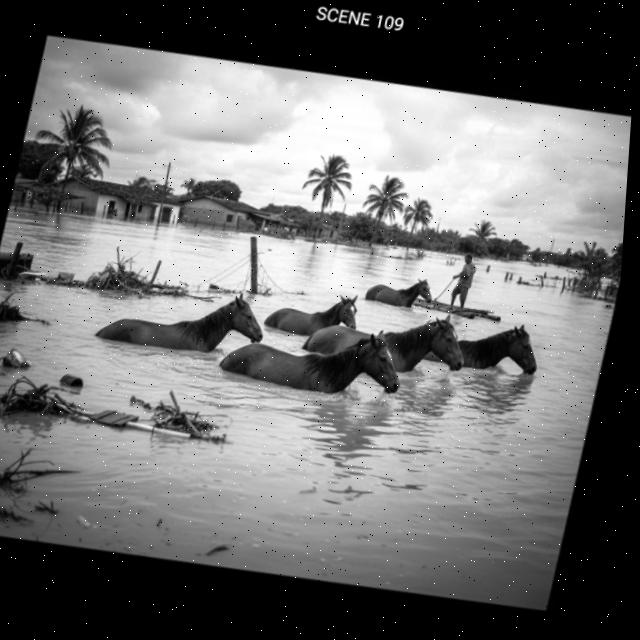civilian: (443, 246, 485, 313)
horse: (202, 298, 422, 419), (87, 264, 280, 372), (294, 294, 480, 387), (420, 303, 555, 389), (253, 277, 370, 347), (359, 268, 440, 318)
